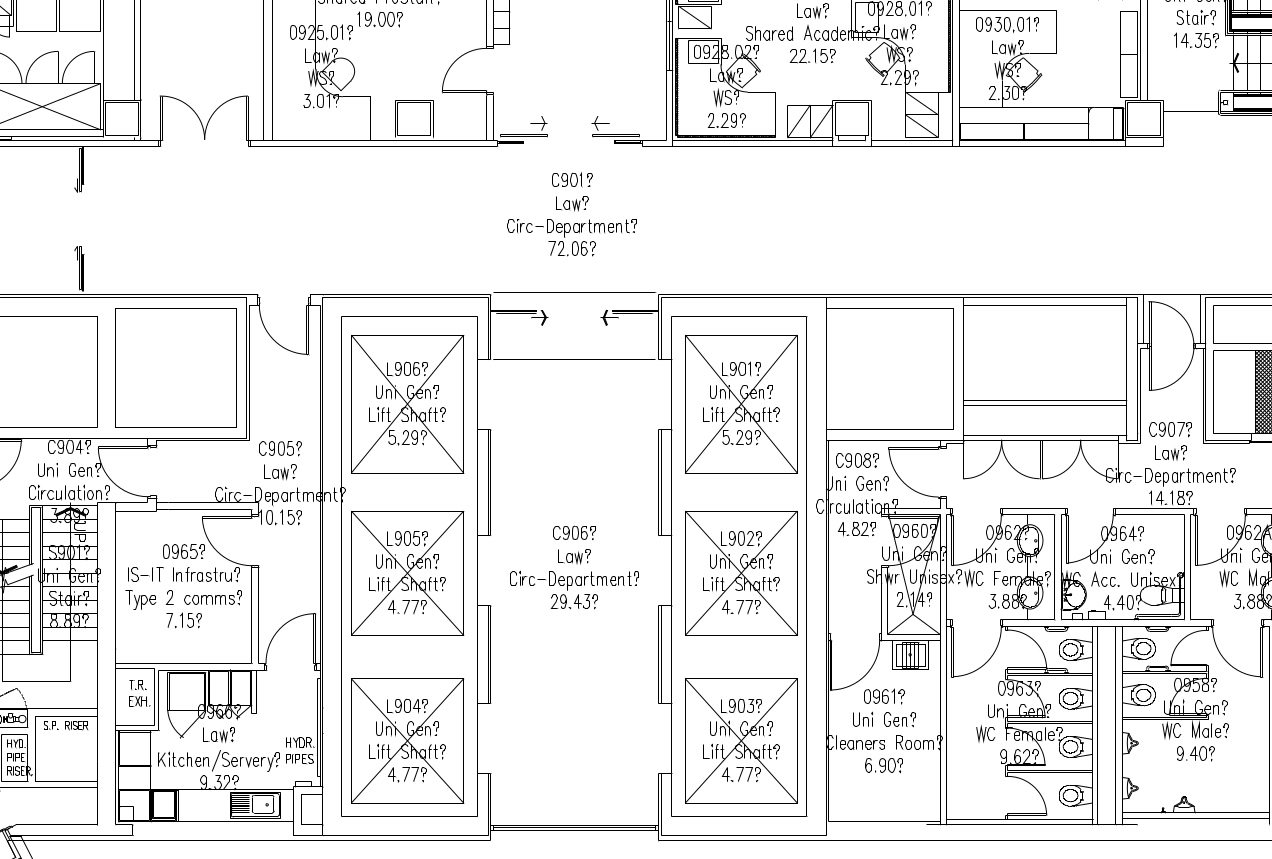door: (1146, 297, 1197, 395), (263, 596, 318, 675), (883, 443, 948, 506), (197, 511, 260, 570), (948, 502, 1004, 568), (1062, 504, 1118, 570), (1192, 505, 1248, 571), (1209, 614, 1265, 680), (949, 621, 1005, 687), (829, 635, 885, 701), (94, 443, 151, 498), (256, 305, 313, 360), (203, 91, 254, 148), (153, 90, 204, 147), (438, 44, 489, 101), (1000, 726, 1050, 769), (999, 774, 1049, 817), (1002, 630, 1052, 673), (1162, 627, 1212, 670), (961, 439, 1005, 483), (998, 437, 1042, 481), (1040, 438, 1084, 482), (1077, 438, 1121, 482), (59, 44, 98, 85), (23, 44, 62, 85)
